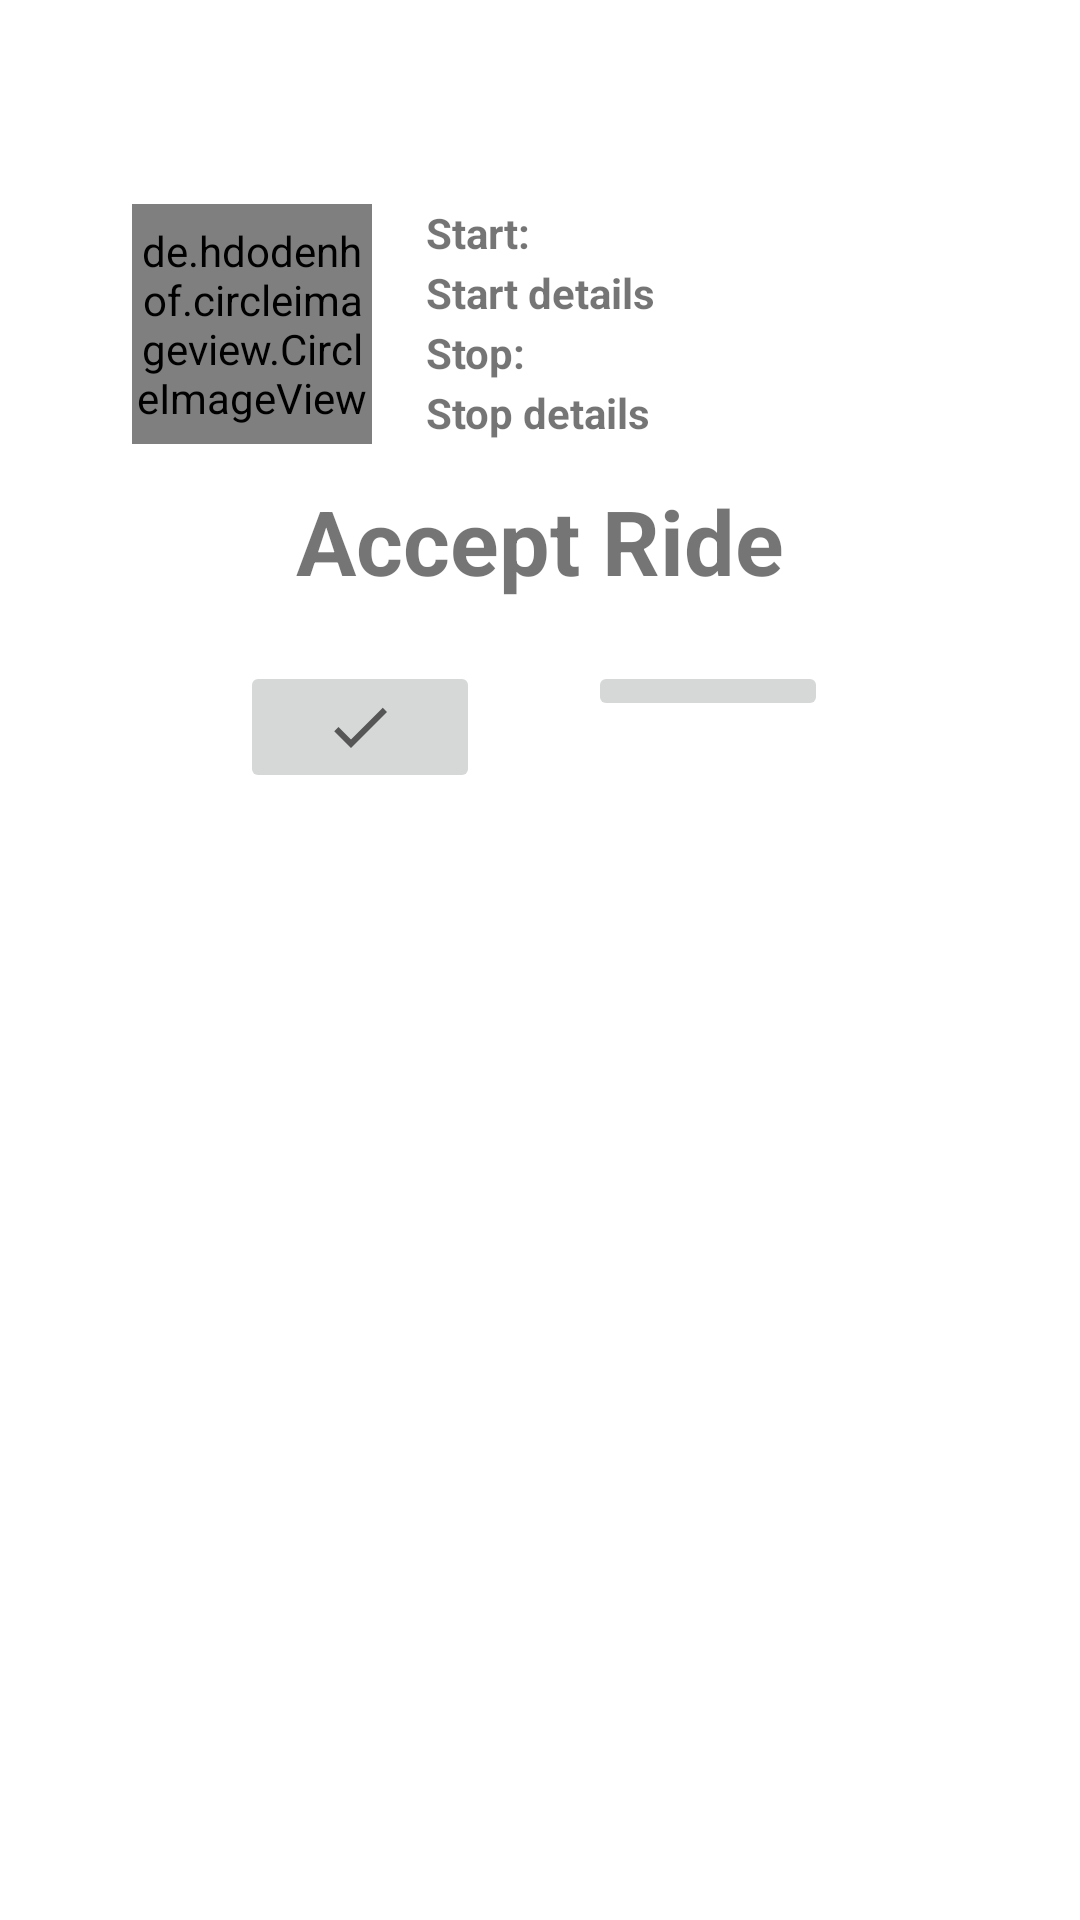

Screen size 1080px x 1920px. Icon name, then its center in pixels as (x=x, y=y):
check: (x=360, y=727)
